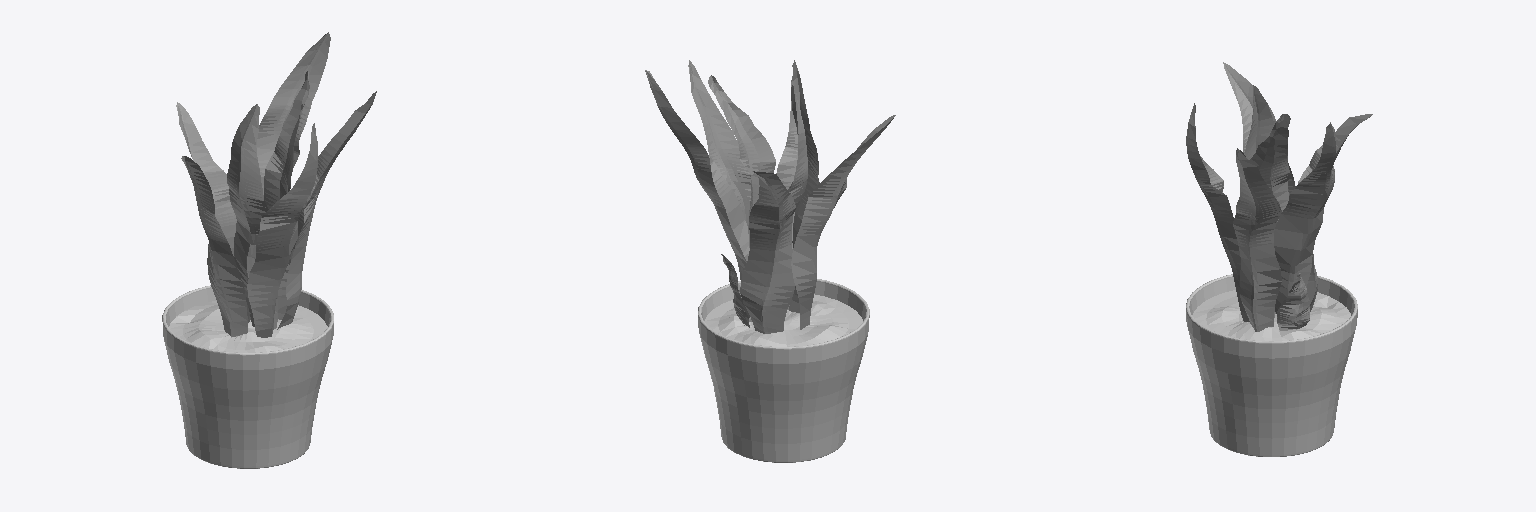
Rendered from sansevieria_2.obj.
3 views of the same model, side by side, from view 1: azimuth 30°, elevation 25°; view 2: azimuth 150°, elevation 25°; view 3: azimuth 270°, elevation 25° (orthographic).
Parts seen in each view (by area): view 1: Plane.019_Plane.003, Circle.010, Circle.008; view 2: Plane.019_Plane.003, Circle.010, Circle.008; view 3: Plane.019_Plane.003, Circle.010, Circle.008.
Boxes of the visible parts, box(x1,y1,x2,y2) form: Plane.019_Plane.003: box(176, 32, 376, 337); Circle.010: box(162, 285, 333, 468); Circle.008: box(169, 301, 327, 352); Plane.019_Plane.003: box(645, 60, 895, 333); Circle.010: box(698, 279, 869, 462); Circle.008: box(704, 294, 862, 346); Plane.019_Plane.003: box(1186, 62, 1372, 331); Circle.010: box(1186, 274, 1357, 456); Circle.008: box(1192, 290, 1350, 340).
Size of the model in its own units: 2.51 by 4.34 by 2.05.